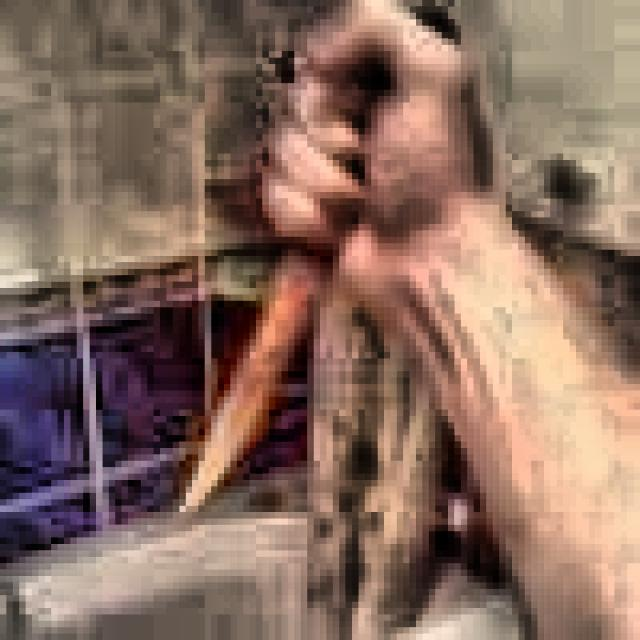knife: (174, 14, 454, 536)
